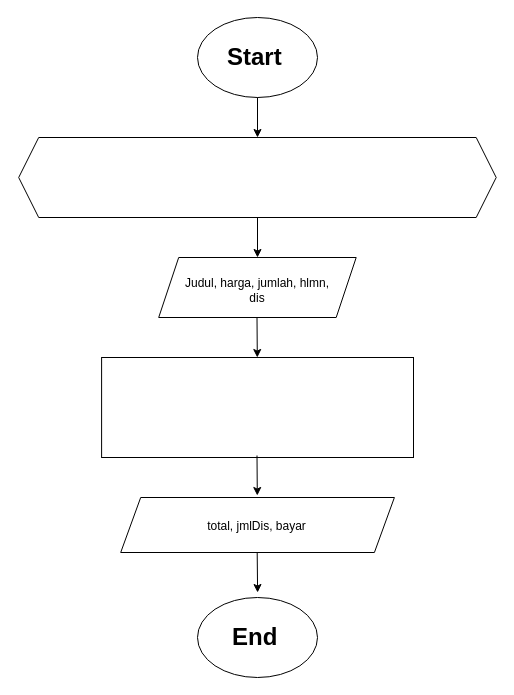
Image size: 514x695. Some labels were removed from this diagram. The box of each missing label's shape, as (x1, y1, x2, y2) in pixels:
string Judul int harga, jumlah, hlmn double dis, total, bayar, jmlDis: (18, 136, 496, 218)
total = harga * jumlah jmlDis = total * dis bayar = total - jmlDis: (101, 356, 414, 458)
